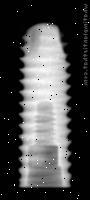Anthogyr: (19, 22, 72, 188)
